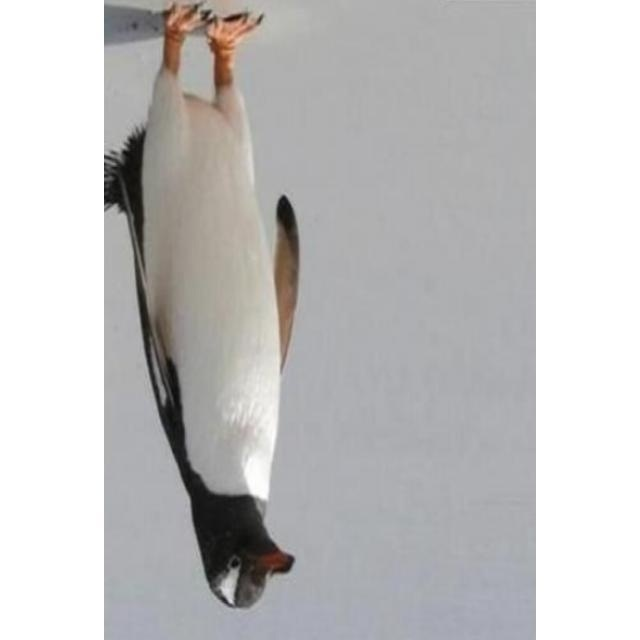penguin: (106, 1, 300, 610)
